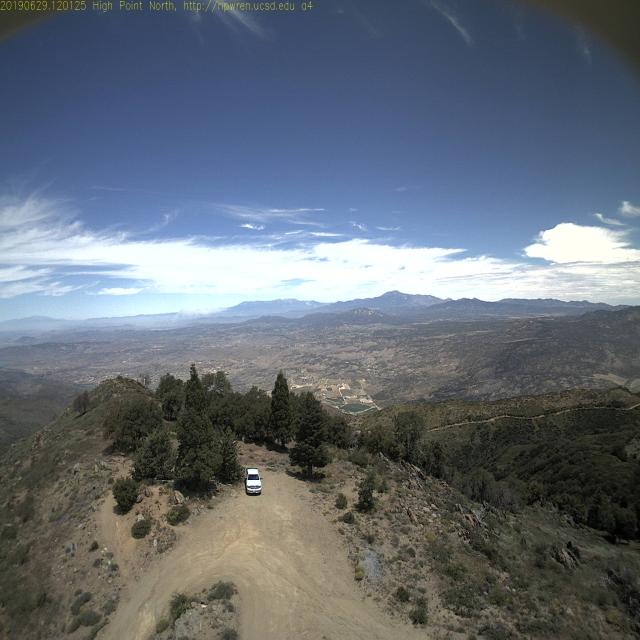smoke: (165, 296, 224, 331)
